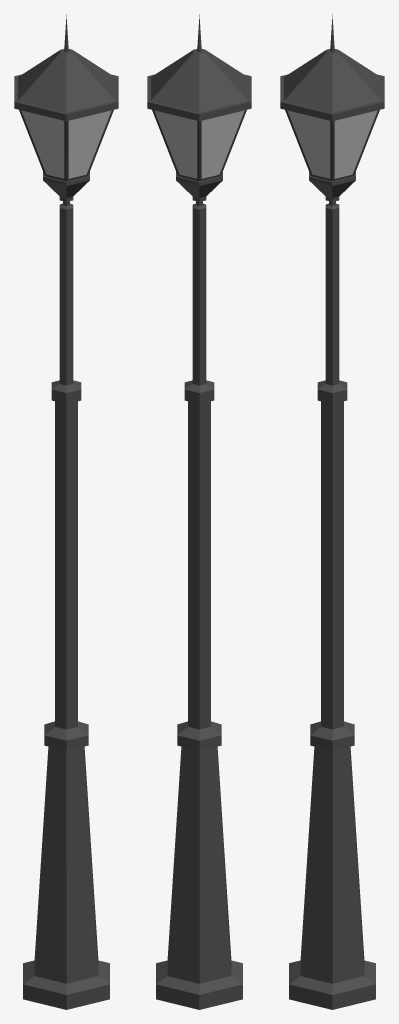
Rendered from Street_Lamps.fbx.
3 views of the same model, side by side, from view 1: azimuth 30°, elevation 25°; view 2: azimuth 150°, elevation 25°; view 3: azimuth 330°, elevation 25° (orthographic).
Parts seen in each view (by area): view 1: Street_Lamps; view 2: Street_Lamps; view 3: Street_Lamps.
Part boxes in pixels (<box>): Street_Lamps: <box>14,14,118,1009</box>; Street_Lamps: <box>147,14,251,1009</box>; Street_Lamps: <box>280,14,384,1009</box>.
Bounding box in the file's own units: 46.69 × 416 × 40.44.
